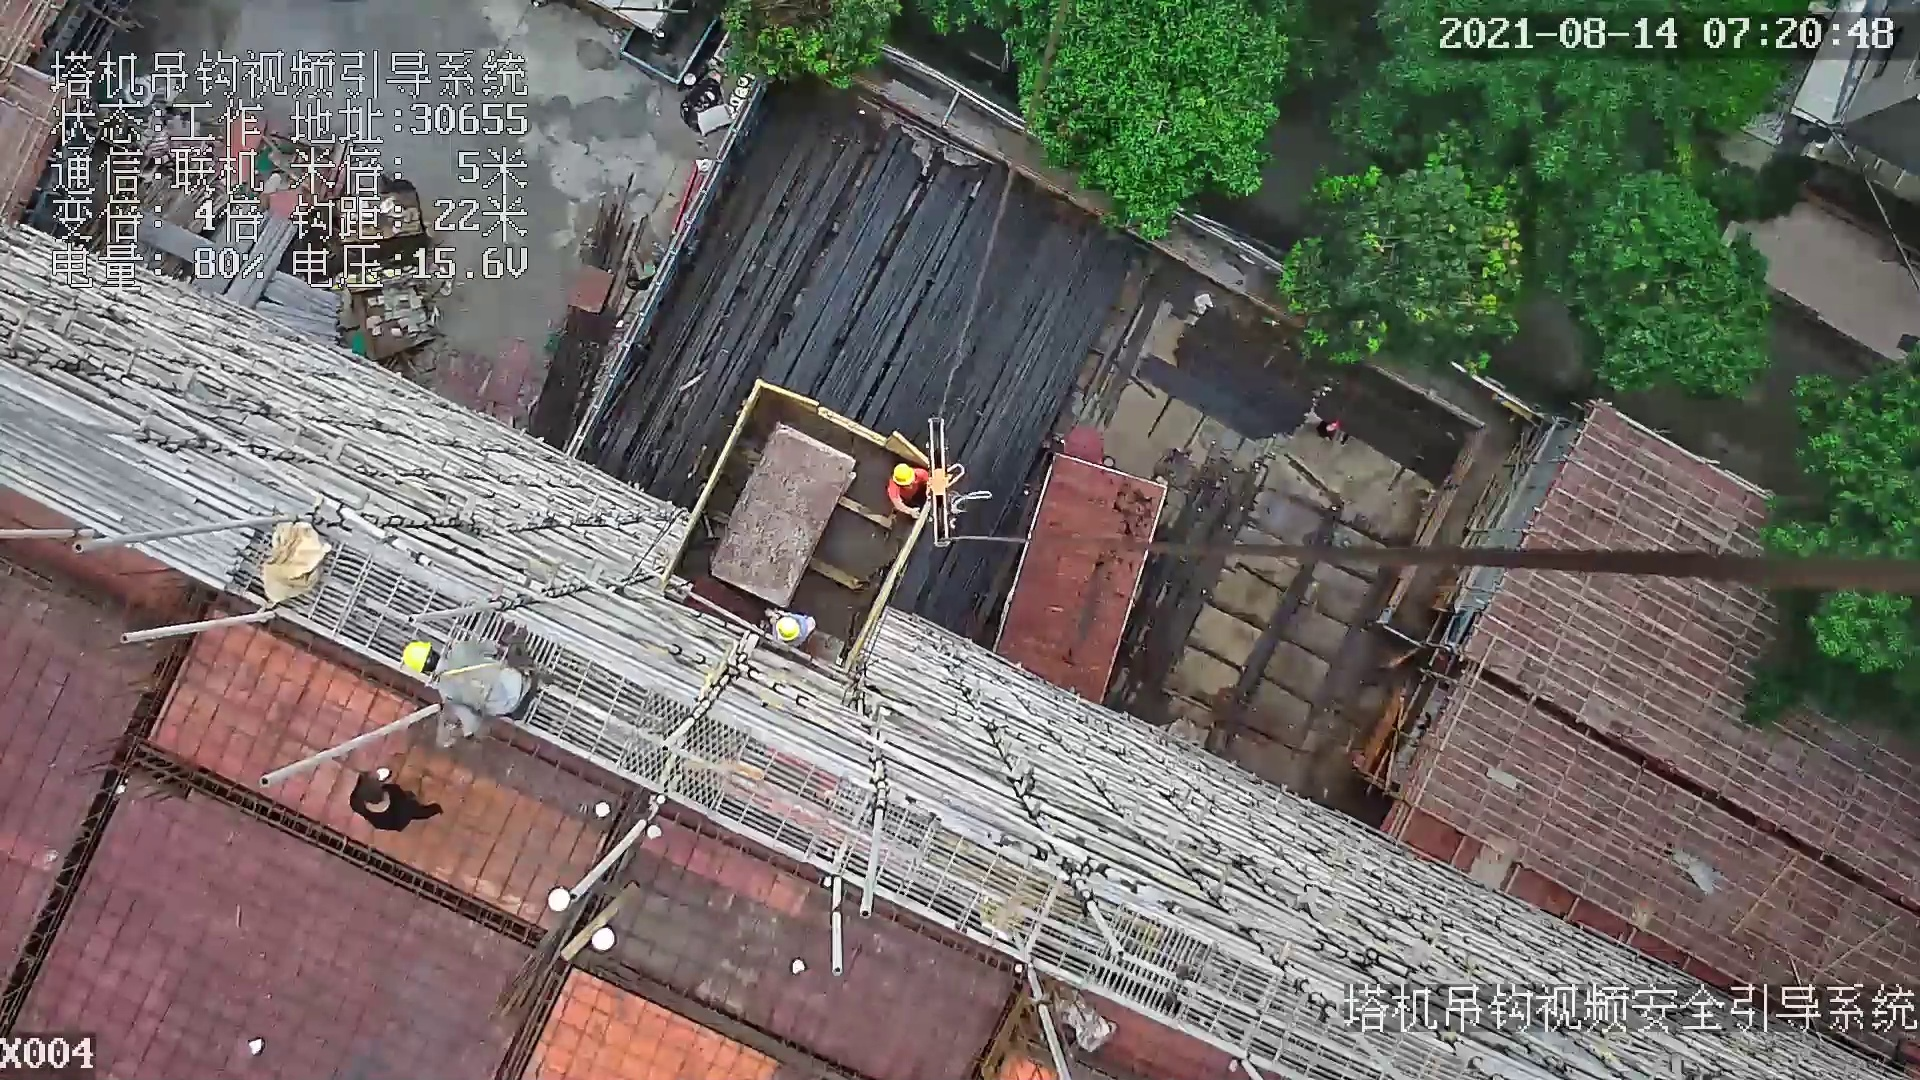helmet: (397, 637, 436, 677), (771, 615, 803, 642), (891, 464, 914, 483)
person: (392, 630, 549, 746), (351, 765, 445, 835), (883, 463, 931, 519), (762, 610, 823, 649)
